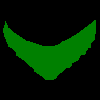mutande: (3, 19, 96, 80)
